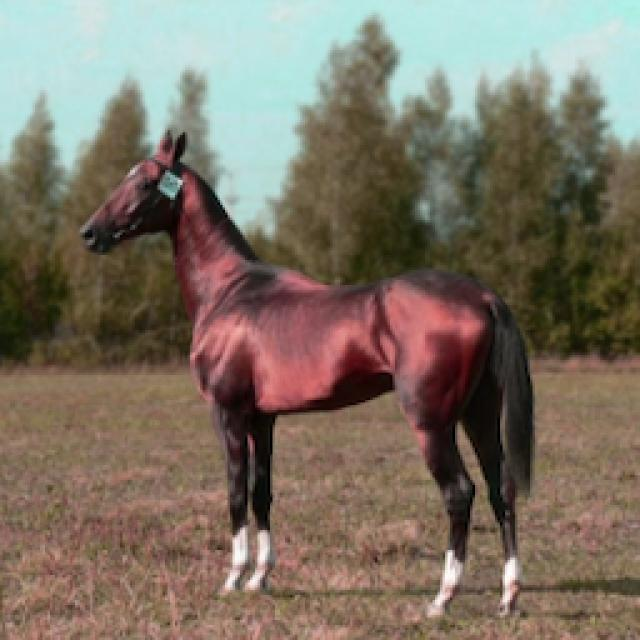Horse: (72, 122, 548, 626)
